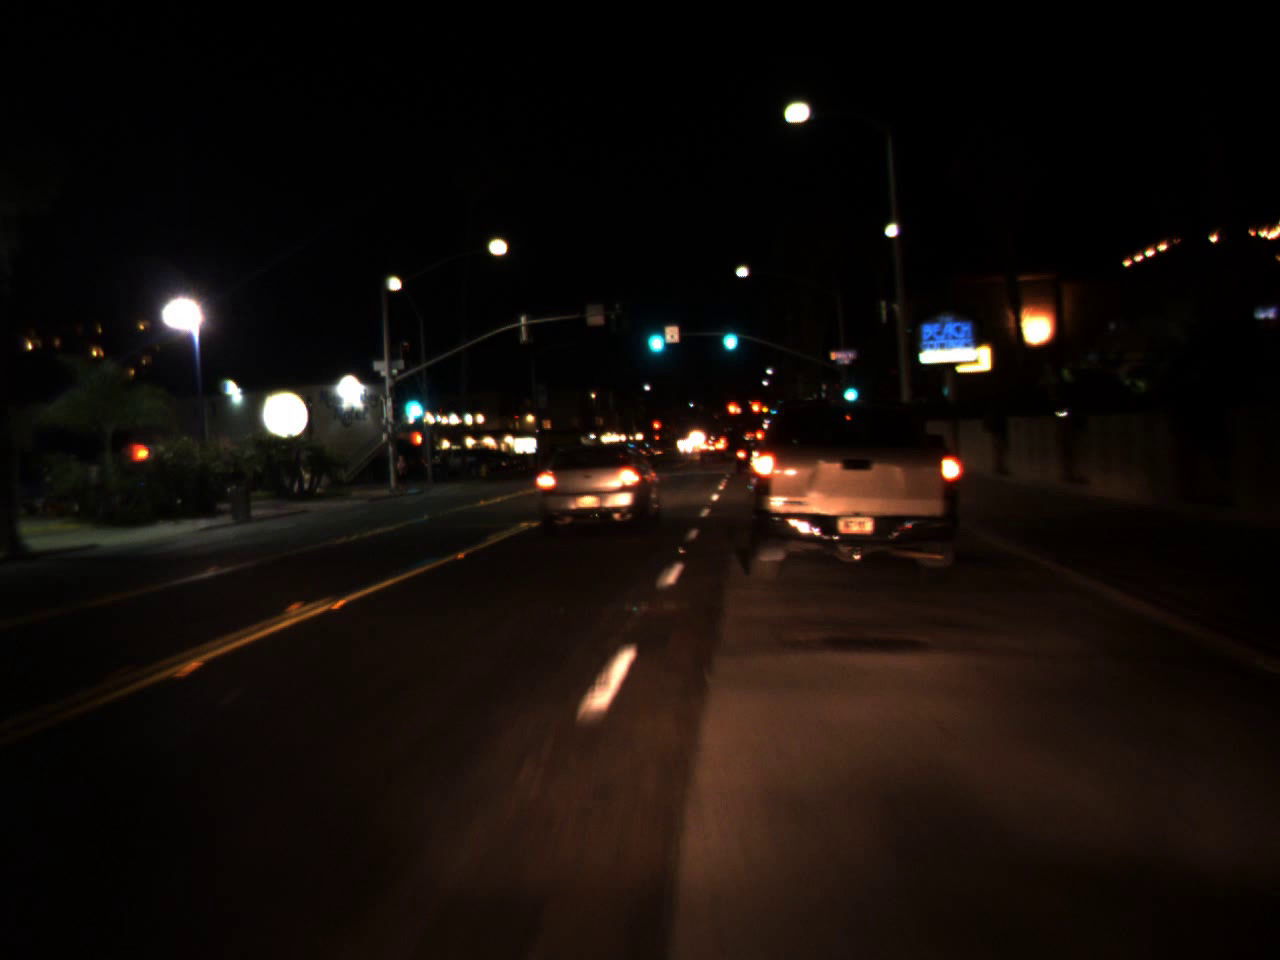go: (641, 313, 668, 358), (398, 384, 426, 419), (717, 315, 740, 354), (838, 372, 859, 405)
